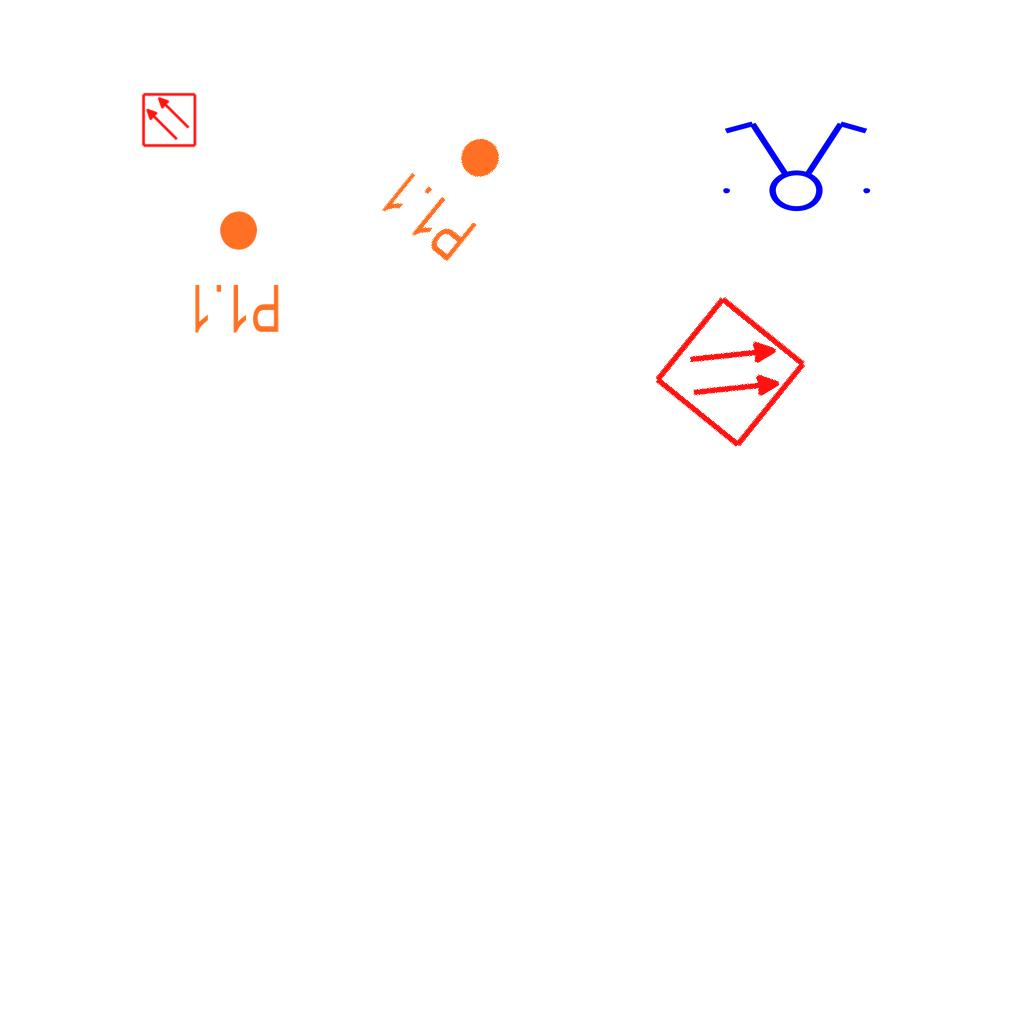Downlight_LED_Einbauleuchten_Flur_2: (375, 108, 528, 268), (189, 208, 282, 336)
RMO_Rauchmelder_optischer: (651, 292, 810, 451), (141, 92, 197, 148)
Serienschalter: (711, 117, 879, 213)
